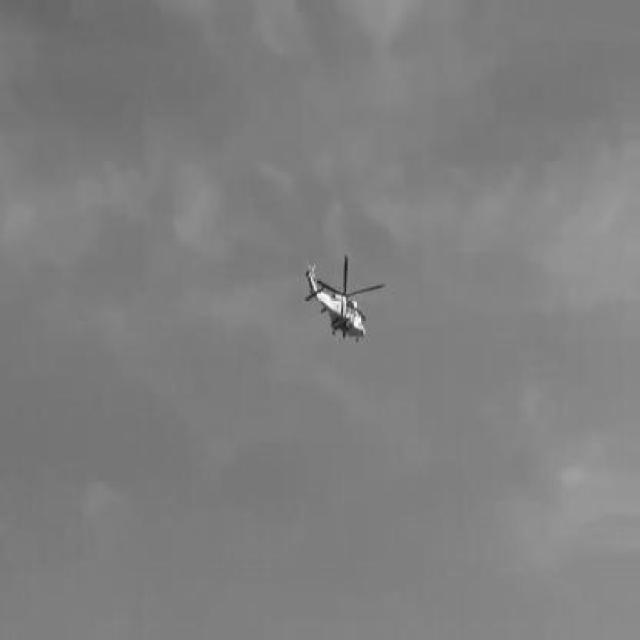helikopter: (303, 258, 383, 340)
